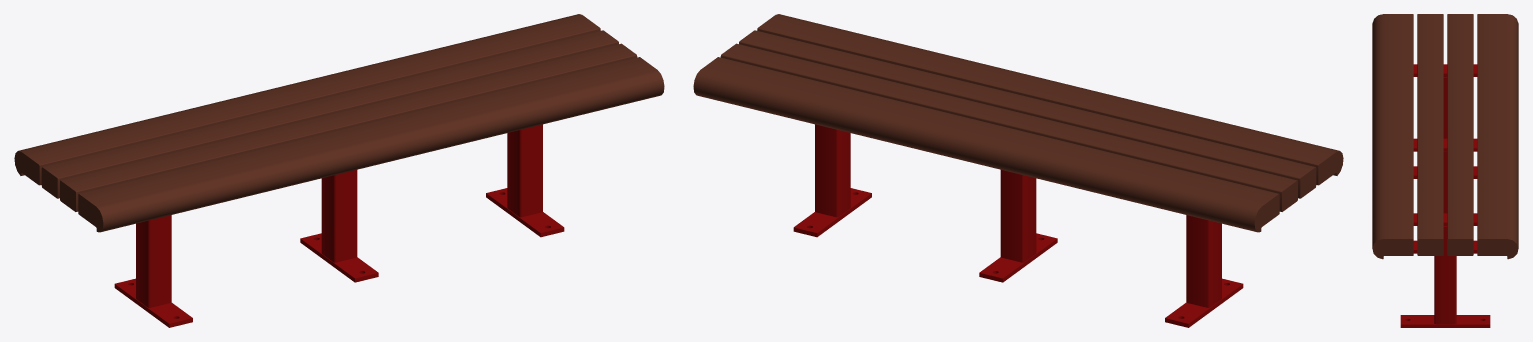
The picture shows the model from 3 angles, left to right: view 1: azimuth 30°, elevation 25°; view 2: azimuth 150°, elevation 25°; view 3: azimuth 270°, elevation 25°; orthographic projection. The views are drawn at different scales.
Parts seen in each view (by area): view 1: mesh14_mesh14-geometry, mesh16_mesh16-geometry, mesh3_mesh3-geometry, mesh2_mesh2-geometry; view 2: mesh14_mesh14-geometry, mesh16_mesh16-geometry, mesh3_mesh3-geometry, mesh2_mesh2-geometry; view 3: mesh14_mesh14-geometry, mesh16_mesh16-geometry, mesh3_mesh3-geometry, mesh2_mesh2-geometry, mesh1_mesh1-geometry.
Boxes of the visible parts, left/top/right/bottom form: mesh14_mesh14-geometry: left=14, top=14, right=664, bottom=232; mesh16_mesh16-geometry: left=41, top=30, right=637, bottom=211; mesh3_mesh3-geometry: left=136, top=124, right=542, bottom=307; mesh2_mesh2-geometry: left=114, top=188, right=564, bottom=327; mesh14_mesh14-geometry: left=693, top=14, right=1343, bottom=232; mesh16_mesh16-geometry: left=720, top=30, right=1316, bottom=211; mesh3_mesh3-geometry: left=815, top=124, right=1221, bottom=307; mesh2_mesh2-geometry: left=793, top=188, right=1243, bottom=327; mesh14_mesh14-geometry: left=1372, top=14, right=1518, bottom=259; mesh16_mesh16-geometry: left=1417, top=14, right=1473, bottom=255; mesh3_mesh3-geometry: left=1434, top=77, right=1456, bottom=324; mesh2_mesh2-geometry: left=1400, top=166, right=1490, bottom=327; mesh1_mesh1-geometry: left=1413, top=64, right=1477, bottom=225.
Size of the model in its own units: 0.9367 by 0.2375 by 0.2572.
